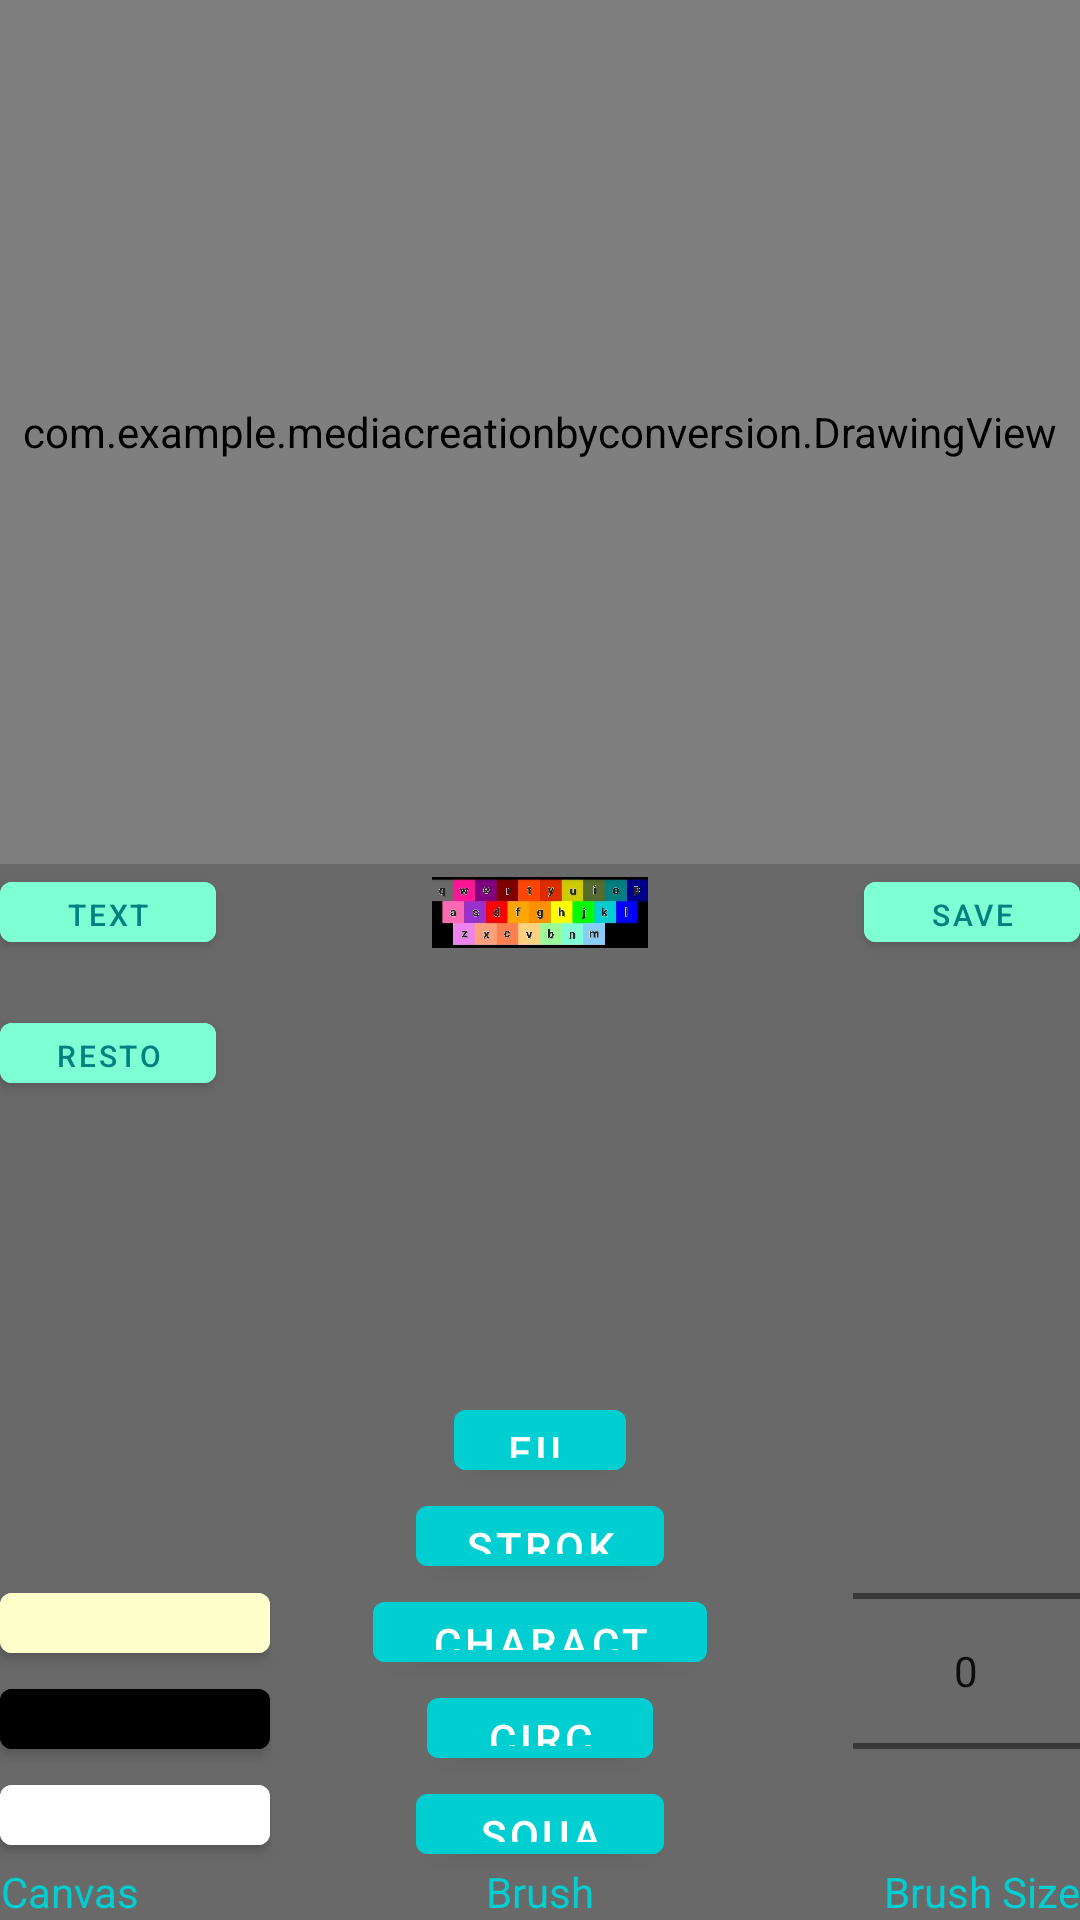

Screen size 1080px x 1920px. Icon name, then its center in pixels as (x,y):
keyboard layout: (540,912)
